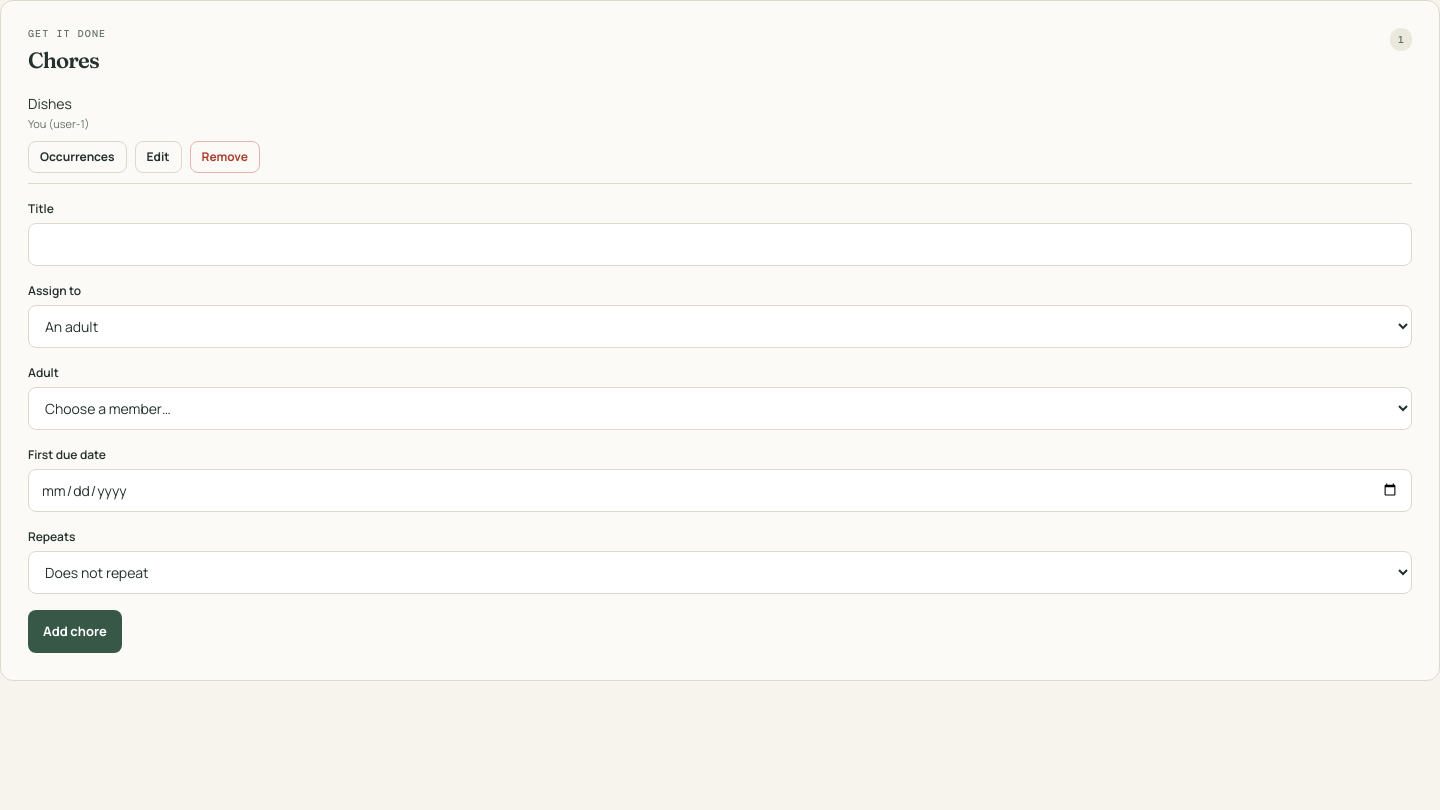
Scenario: ChoresPanel › deletes a chore
Click the button with aria-label "remove dishes" at coordinates (225, 156), box [190,140,260,172]
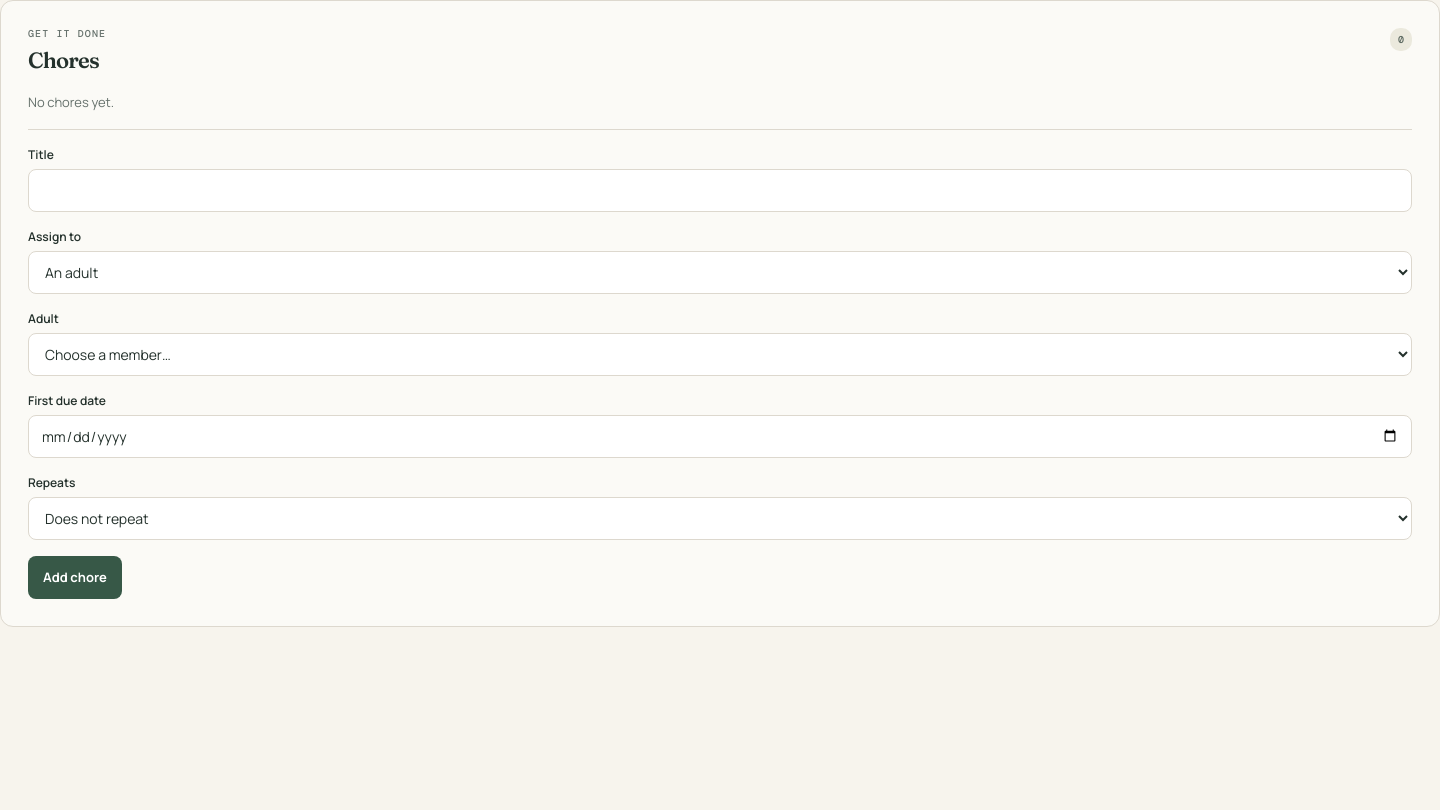
Expected: the text "Dishes" is gone
